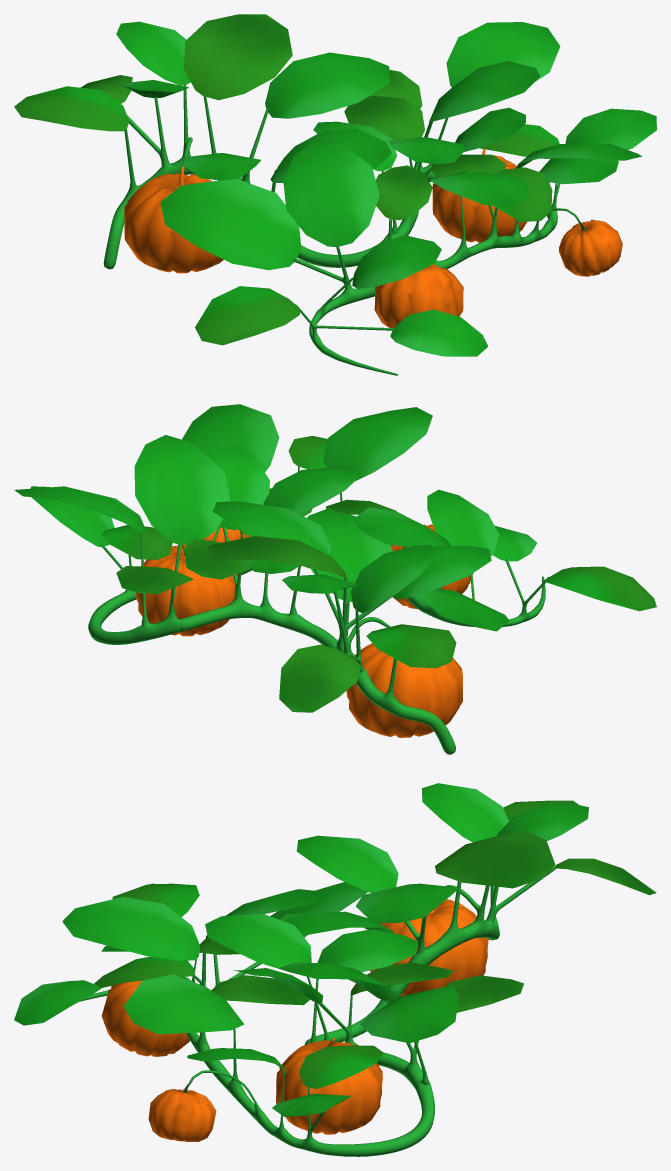
Rendered from Pumpkin4.fbx.
3 renders of one model, top to bottom at view 1: azimuth 30°, elevation 25°; view 2: azimuth 150°, elevation 25°; view 3: azimuth 270°, elevation 25°, orthographic. The views are drawn at different scales.
Visible parts, largest first — view 1: 4; view 2: 4; view 3: 4.
Boxes of the visible parts, bbox=[...] form: 4: bbox=[14, 14, 656, 375]; 4: bbox=[14, 404, 656, 754]; 4: bbox=[14, 783, 656, 1156].
Size of the model in its own units: 193 by 64.01 by 190.
